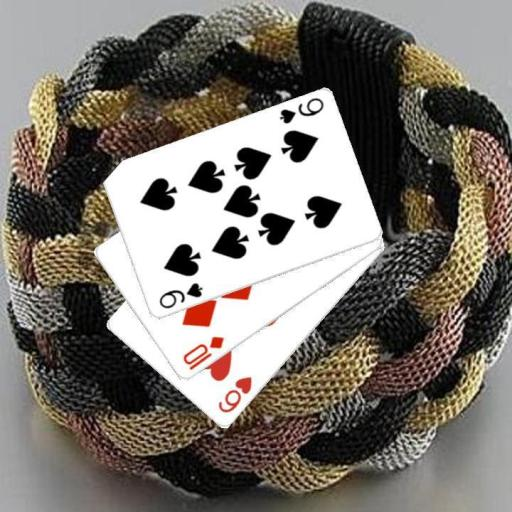card-corner: (180, 333, 226, 372), (215, 374, 254, 416), (155, 279, 204, 311), (276, 94, 325, 126)
